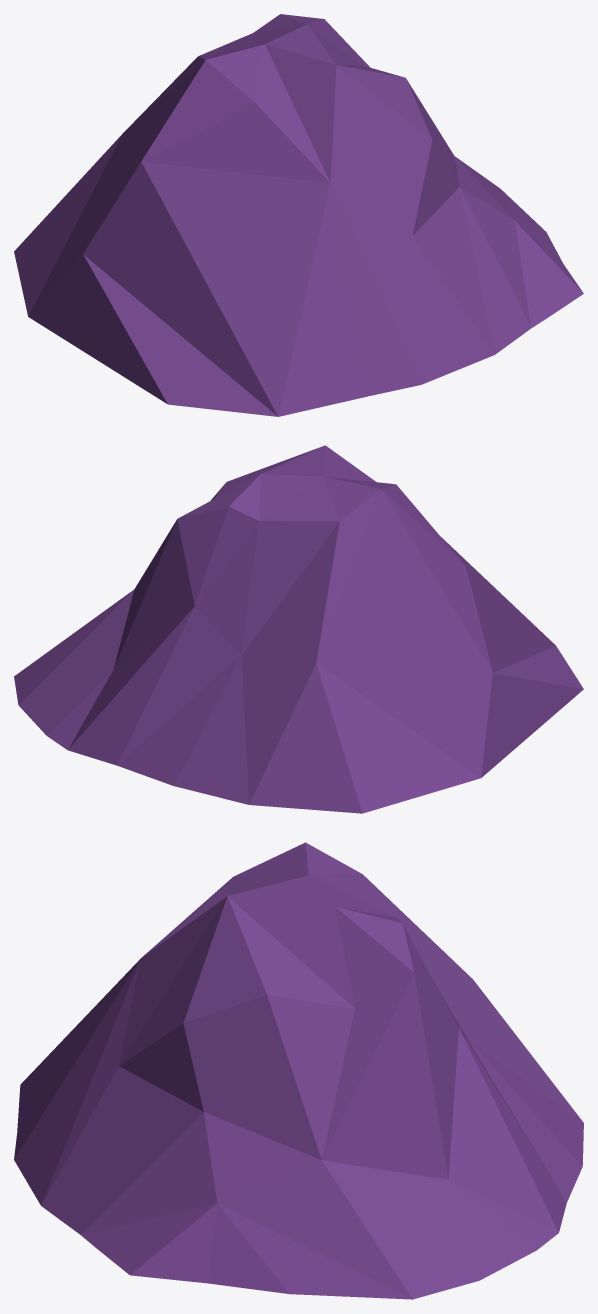
The model's file is VL_Rock02.fbx.
3 views of the same model, one above another, from view 1: azimuth 30°, elevation 25°; view 2: azimuth 150°, elevation 25°; view 3: azimuth 270°, elevation 25° (orthographic). The views are drawn at different scales.
Visible parts, largest first — view 1: VL_Rock02; view 2: VL_Rock02; view 3: VL_Rock02.
Part boxes in pixels (left/top/right/bottom): VL_Rock02: left=14, top=14, right=583, bottom=416; VL_Rock02: left=14, top=445, right=583, bottom=813; VL_Rock02: left=14, top=842, right=583, bottom=1299.
Bounding box in the file's own units: 204 × 99.47 × 188.
1 material, 1 textured.
